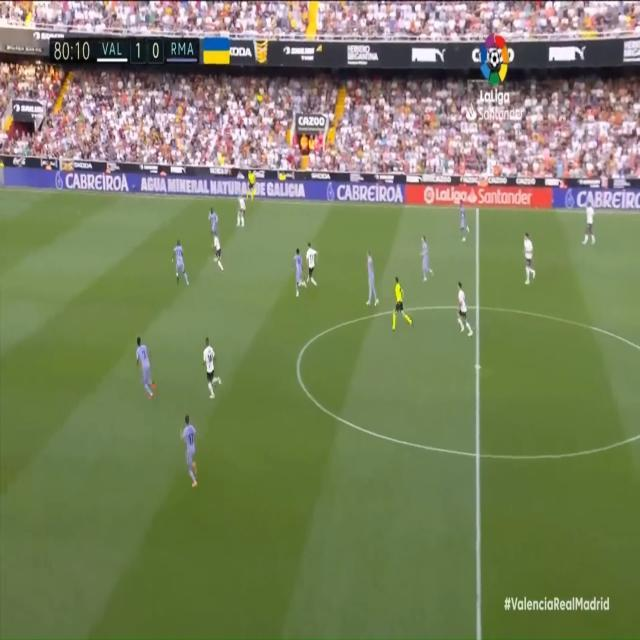ball: (302, 279, 306, 287)
player: (182, 408, 202, 493), (200, 337, 225, 401), (135, 337, 156, 403), (455, 279, 474, 338), (522, 230, 538, 290), (581, 194, 599, 247), (366, 248, 381, 311), (172, 236, 190, 286), (418, 232, 434, 284), (292, 246, 307, 299), (305, 242, 320, 289), (211, 229, 225, 276), (456, 196, 469, 246), (207, 200, 221, 241), (234, 190, 247, 232)
referee: (394, 276, 416, 331), (245, 167, 259, 201)
